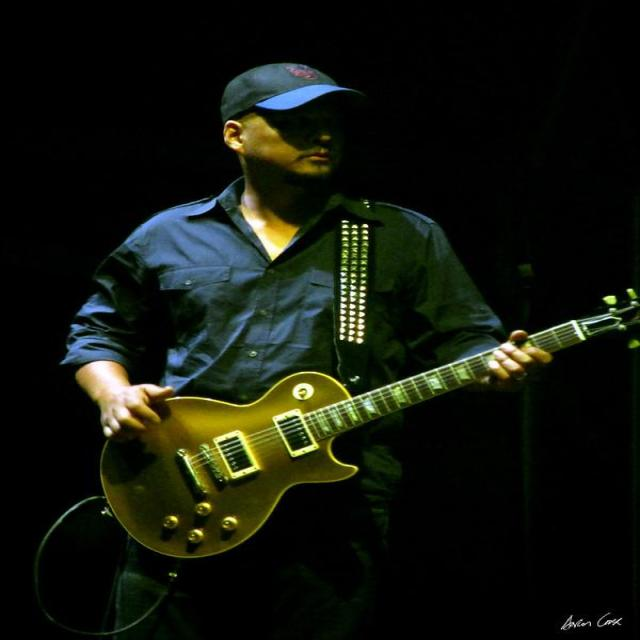guitar: (101, 351, 492, 557)
